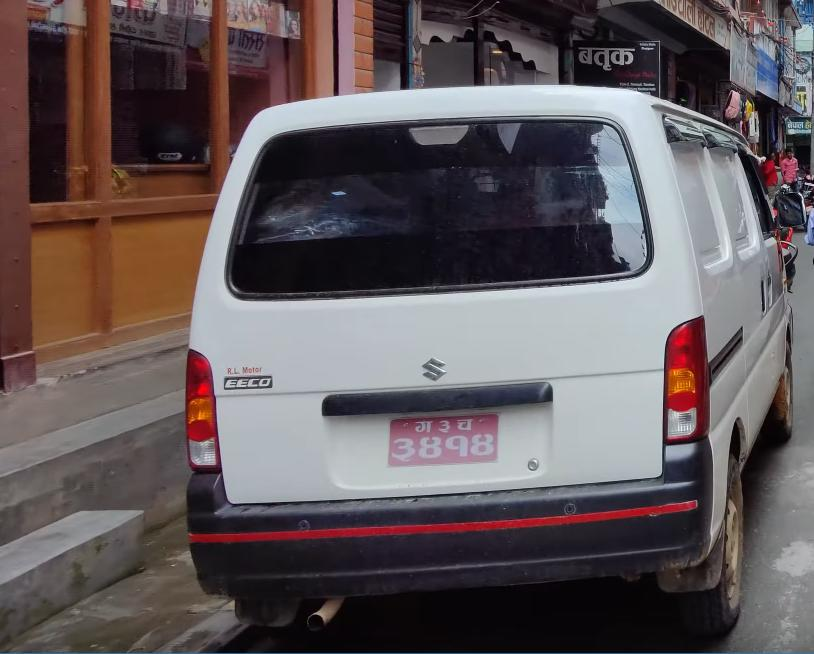van: (171, 80, 811, 629)
